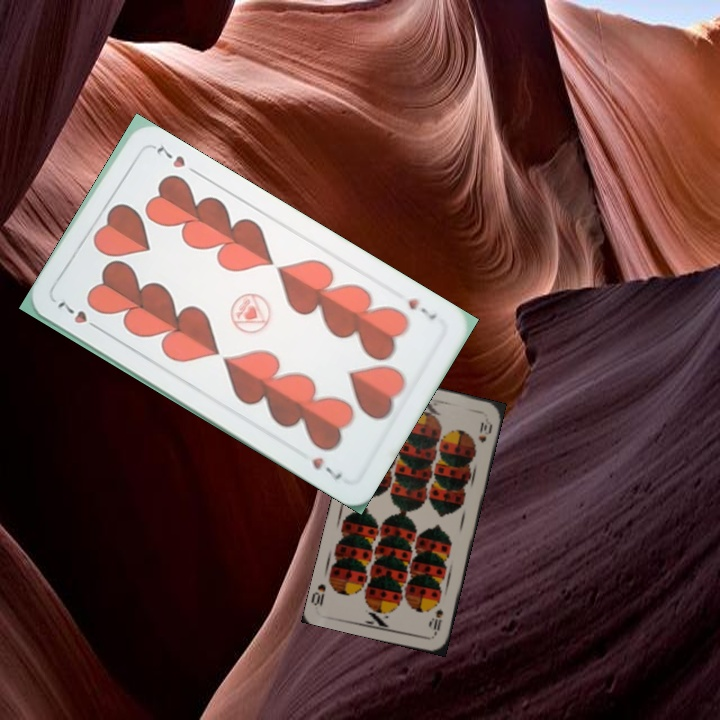H7: (53, 296, 104, 334), (403, 293, 439, 323)
S10: (428, 604, 445, 638)
